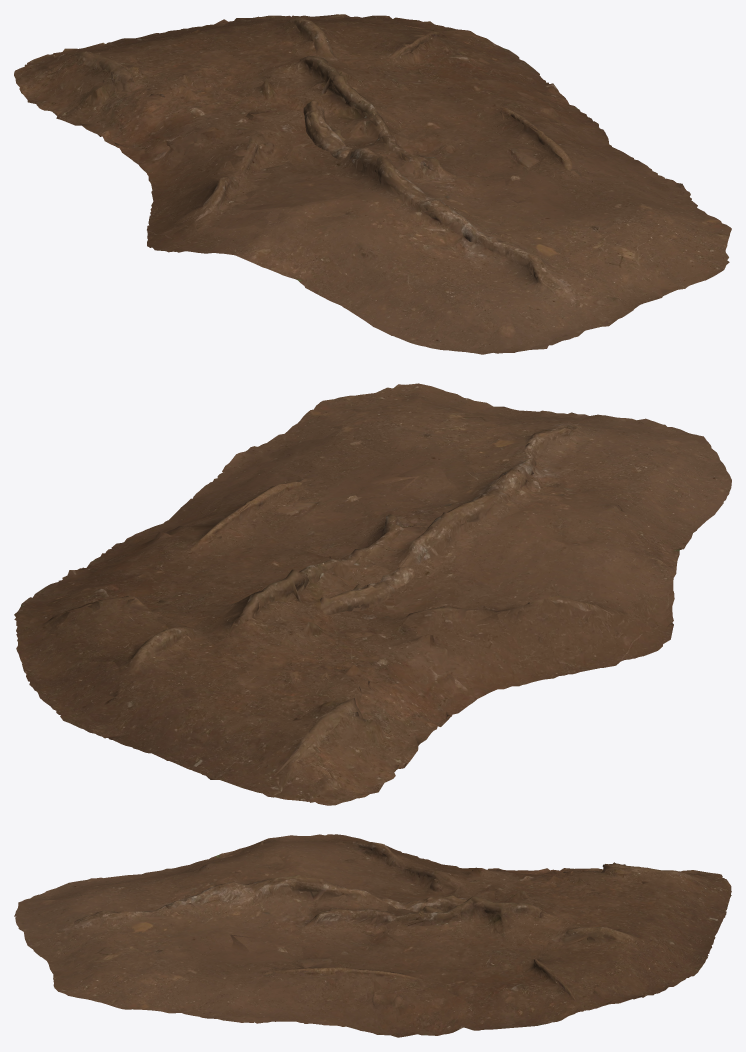
File: root_cluster_02.glb
3 renders of one model, top to bottom at view 1: azimuth 30°, elevation 25°; view 2: azimuth 150°, elevation 25°; view 3: azimuth 270°, elevation 25°, orthographic. The views are drawn at different scales.
Bounding box in the file's own units: 1.45 × 0.1953 × 2.29.
1 material, 1 textured.
